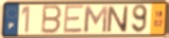1: (19, 5, 31, 35)
9: (131, 3, 149, 35)
B: (40, 4, 64, 36)
E: (62, 4, 85, 36)
M: (83, 5, 109, 34)
N: (106, 5, 129, 34)
